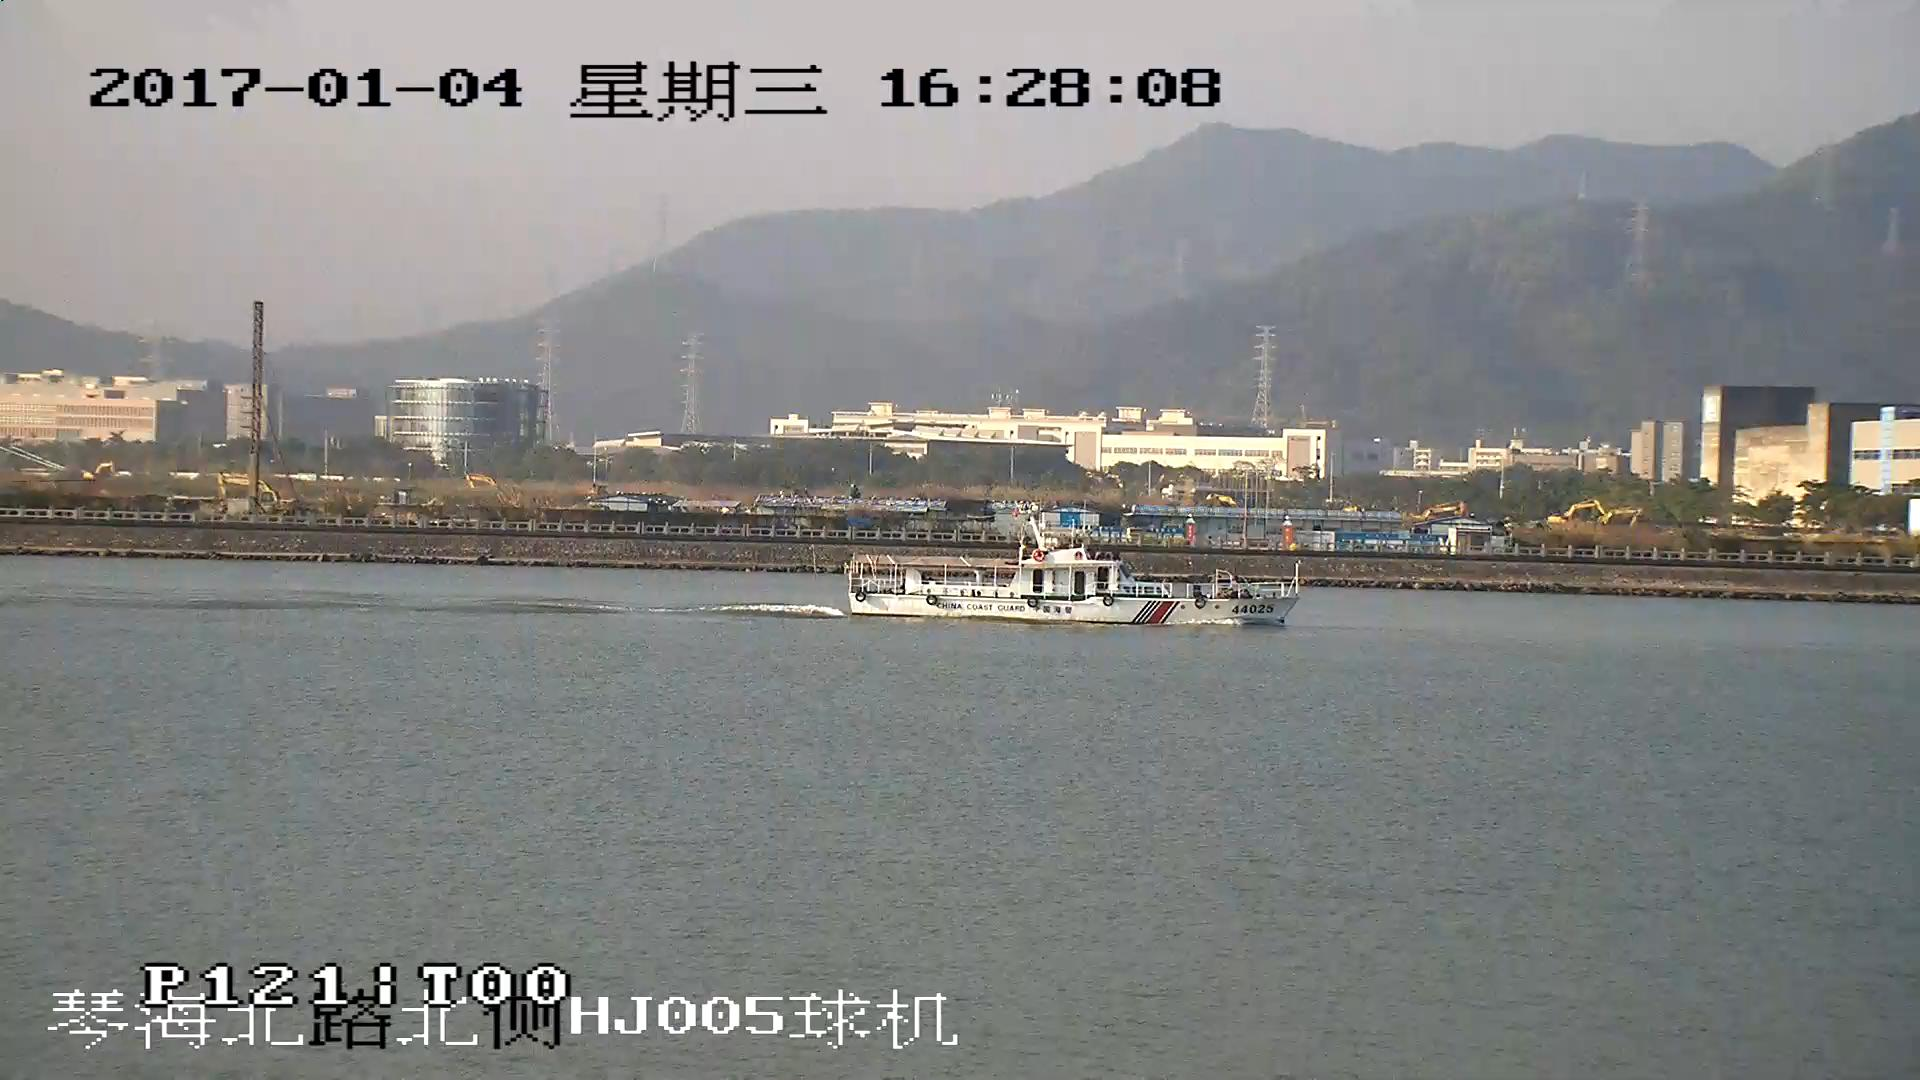passenger ship: (846, 514, 1300, 628)
